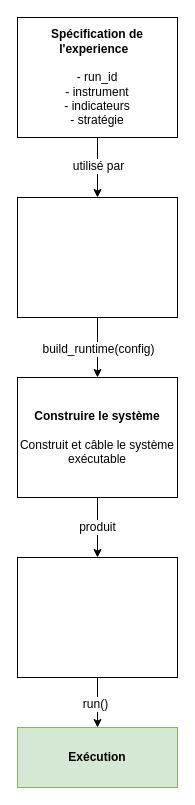
Some shapes in this 195 by 805 pixel diagram are drawn without their labels. Here are the shapes that lost their labels. From the top down, the centre of each, then its label:
point (97, 257): Configuration exécution Live / Sequentiel paramètres spécifiques
point (97, 617): Runtime LiveRuntime ou SequentialRuntime
